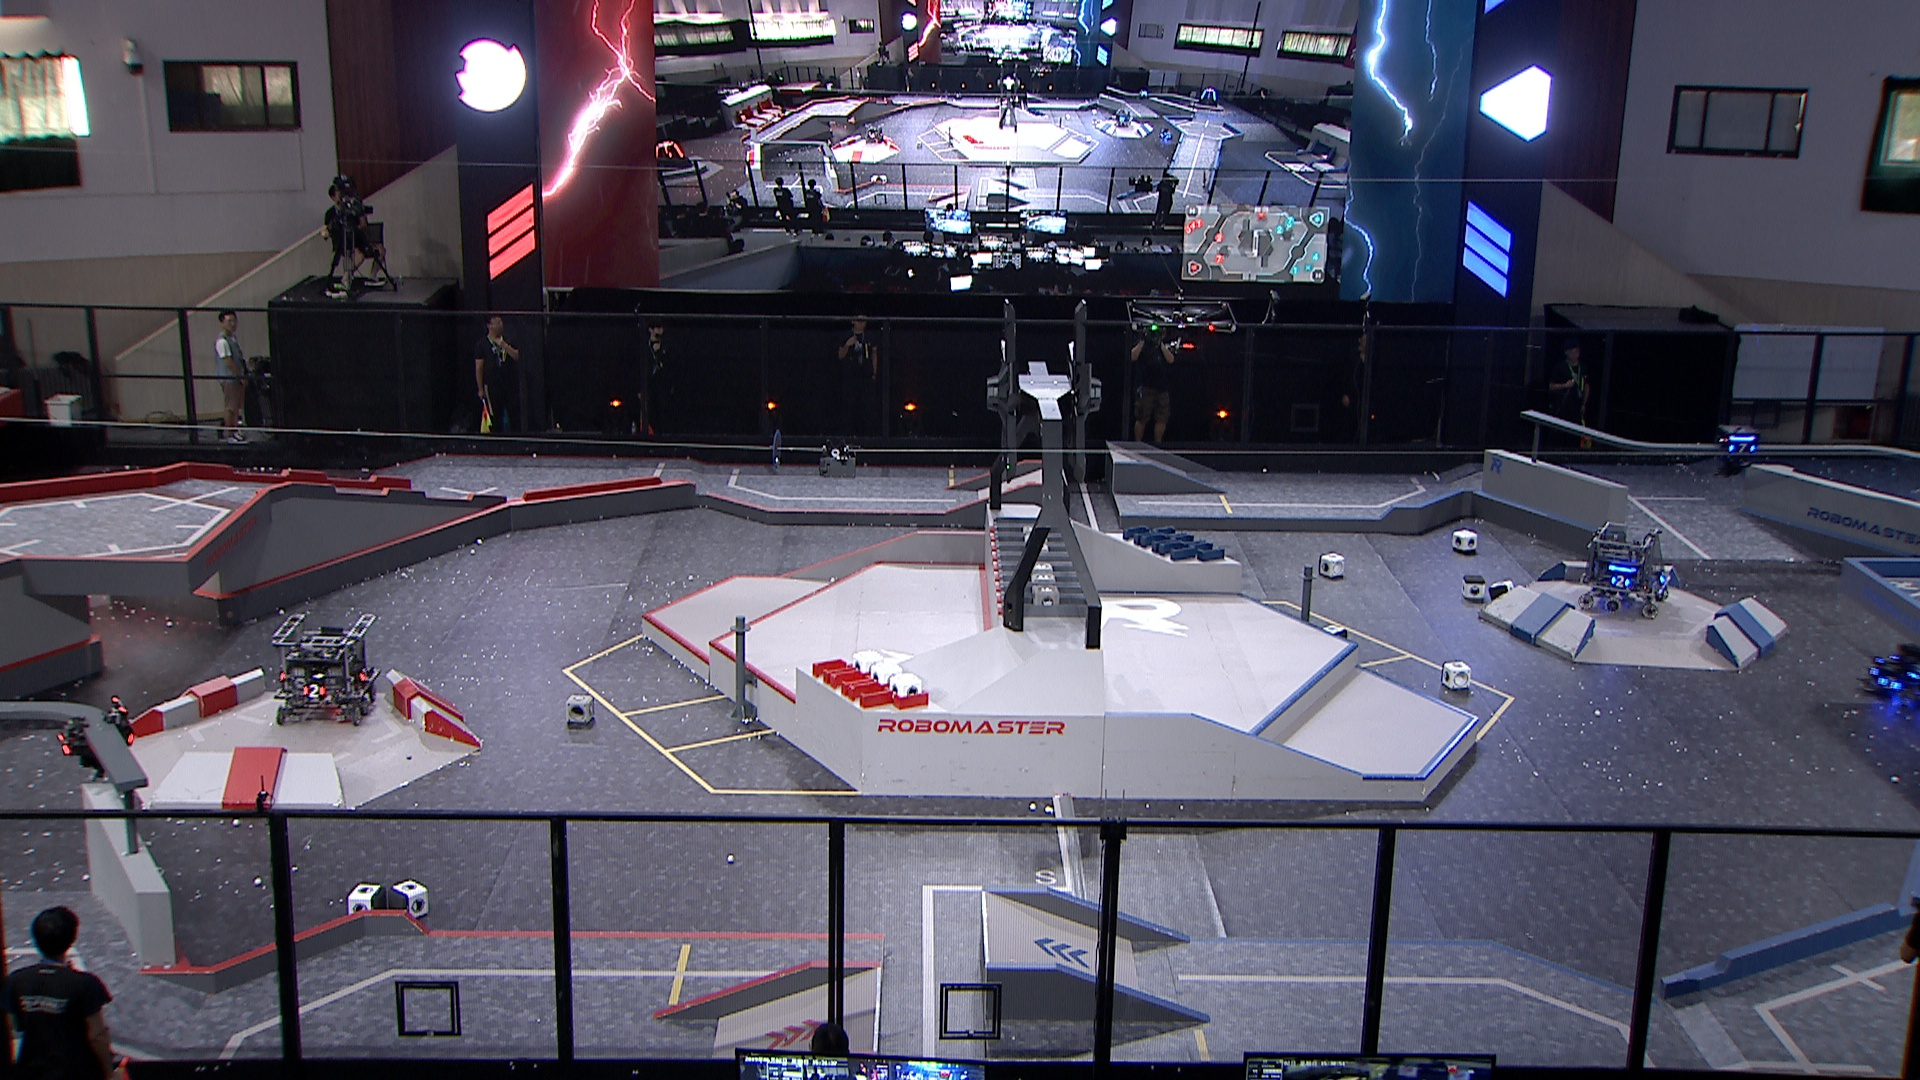armor: (53, 731, 76, 760), (1878, 673, 1903, 698), (1726, 439, 1759, 456), (301, 680, 328, 699), (1655, 566, 1673, 588), (356, 662, 372, 684), (1610, 574, 1633, 589)
car: (268, 608, 382, 725), (1571, 516, 1677, 622), (1859, 632, 1920, 702)
ignore: (651, 138, 692, 169), (1199, 83, 1222, 109), (862, 124, 885, 144), (1114, 105, 1133, 127)
watcher: (54, 694, 141, 787), (1716, 419, 1762, 477)
